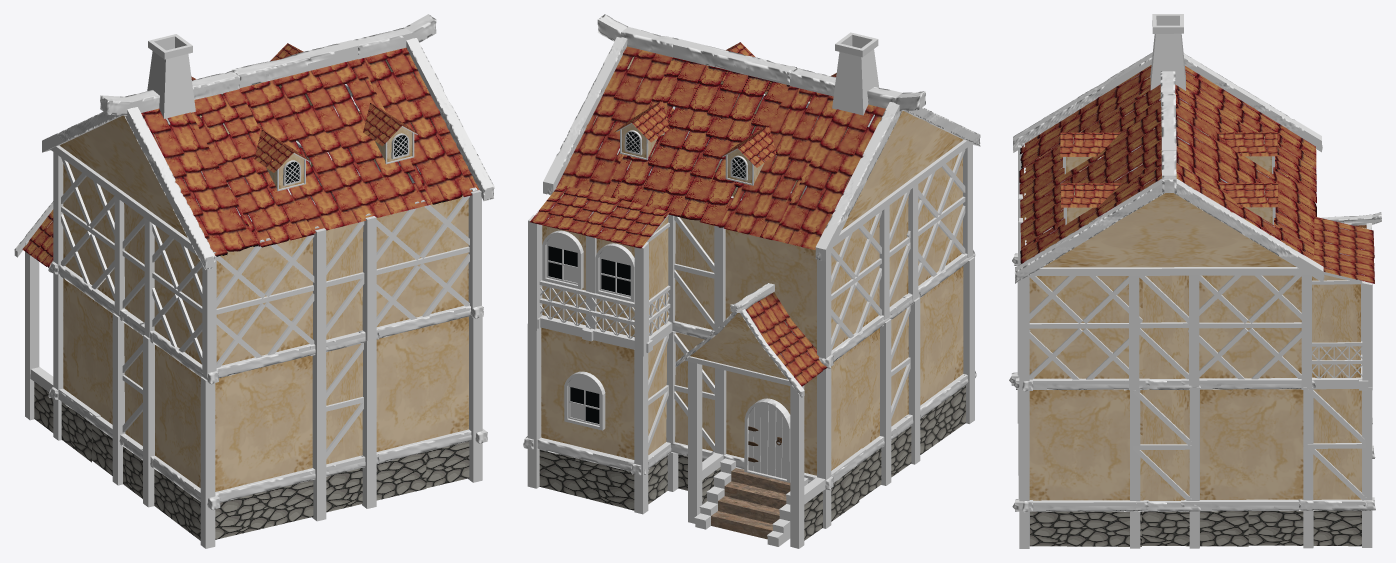
The model's file is house_3.fbx.
3 views of the same model, side by side, from view 1: azimuth 30°, elevation 25°; view 2: azimuth 150°, elevation 25°; view 3: azimuth 270°, elevation 25° (orthographic). The views are drawn at different scales.
Parts seen in each view (by area): view 1: Cube.217, Circle.010, Plane.235, Cube.247, Plane.236, Circle.008, Cube.248, Plane.228, Cube.242, Cube.243, Plane.231, Plane.232 (+30 smaller); view 2: Cube.217, Circle.010, Circle.008, Plane.229, Plane.220, Plane.228, Cube.235, Plane.219, Plane.227, Cube.242, Plane.231, Cube.243 (+38 smaller); view 3: Circle.008, Cube.217, Plane.233, Plane.234, Cube.236, Cube.237, Circle.010, Plane.219, Cube.241, Cube.246, Plane.228, Cube.238 (+20 smaller).
Part boxes in pixels (<box>): Cube.217: <box>221,40,432,233</box>; Circle.010: <box>42,90,258,269</box>; Plane.235: <box>215,355,329,502</box>; Cube.247: <box>202,226,328,378</box>; Plane.236: <box>361,316,471,467</box>; Circle.008: <box>344,14,494,204</box>; Cube.248: <box>358,188,483,338</box>; Plane.228: <box>191,70,314,247</box>; Cube.242: <box>52,157,127,319</box>; Cube.243: <box>140,224,218,384</box>; Plane.231: <box>53,278,127,445</box>; Plane.232: <box>141,345,220,510</box>; Cube.217: <box>604,39,812,226</box>; Circle.010: <box>772,87,980,261</box>; Circle.008: <box>543,14,723,195</box>; Plane.229: <box>537,327,648,474</box>; Plane.220: <box>582,197,672,352</box>; Plane.228: <box>719,68,836,239</box>; Cube.235: <box>675,283,827,397</box>; Plane.219: <box>530,184,611,338</box>; Plane.227: <box>711,229,833,368</box>; Cube.242: <box>818,211,892,365</box>; Plane.231: <box>825,328,892,489</box>; Cube.243: <box>902,149,975,298</box>; Circle.008: <box>1014,150,1324,283</box>; Cube.217: <box>1020,94,1316,250</box>; Plane.233: <box>1181,389,1313,511</box>; Plane.234: <box>1012,389,1148,511</box>; Cube.236: <box>1181,275,1315,389</box>; Cube.237: <box>1013,276,1149,389</box>; Circle.010: <box>1013,52,1322,168</box>; Plane.219: <box>1312,244,1374,390</box>; Cube.241: <box>1298,389,1375,510</box>; Cube.246: <box>1124,389,1200,511</box>; Plane.228: <box>1019,71,1316,194</box>; Cube.238: <box>1124,275,1200,390</box>.
Bounding box in the file's own units: 211 × 268 × 216.
Materials: 8 (5 with a texture image).
